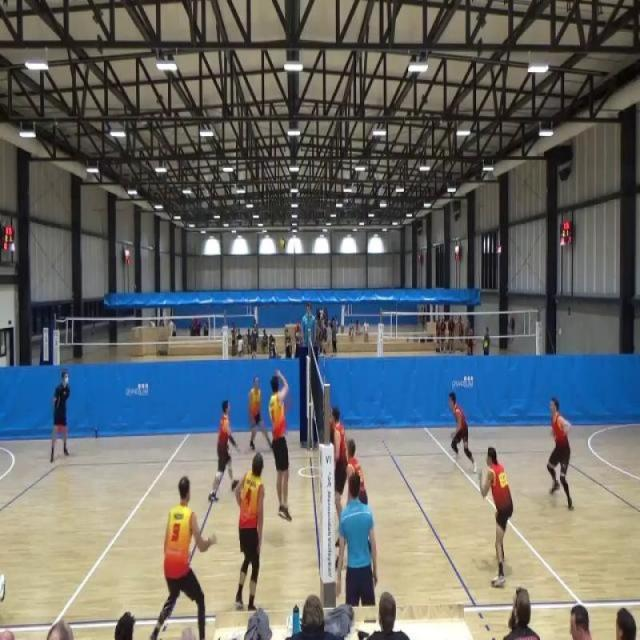volleyball: (278, 236, 288, 250)
